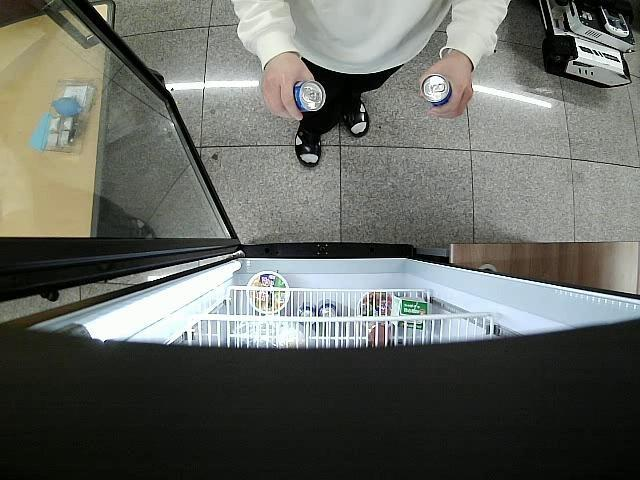15_letsbe: (294, 80, 326, 111), (421, 74, 451, 106)
